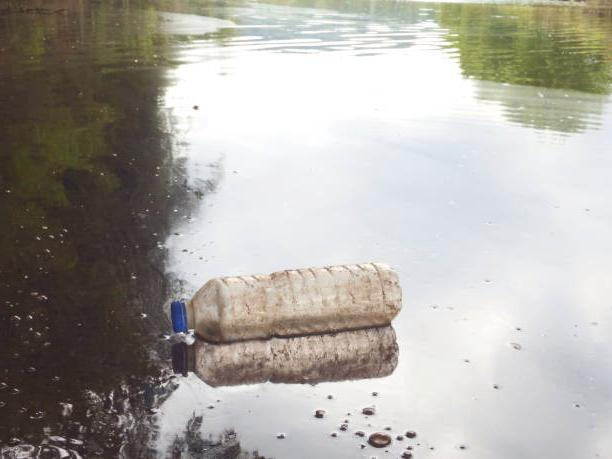Plastic: (160, 265, 407, 348)
